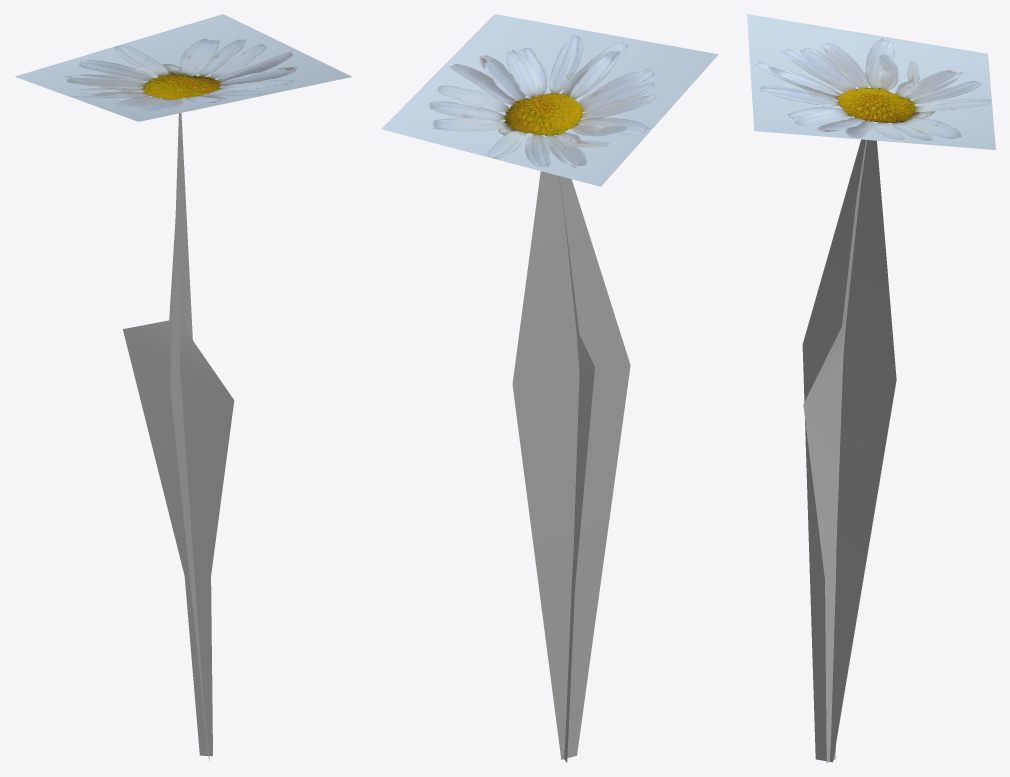
File: Flor Blanca.fbx
3 views of the same model, side by side, from view 1: azimuth 30°, elevation 25°; view 2: azimuth 150°, elevation 25°; view 3: azimuth 270°, elevation 25° (orthographic).
Visible parts, largest first — view 1: Plane.009; view 2: Plane.009; view 3: Plane.009.
Boxes of the visible parts, x1,y1,x2,y2 form: Plane.009: (15,14,351,760); Plane.009: (381,14,718,762); Plane.009: (747,14,995,762).
Size of the model in its own units: 6.88 by 20.54 by 6.68.
